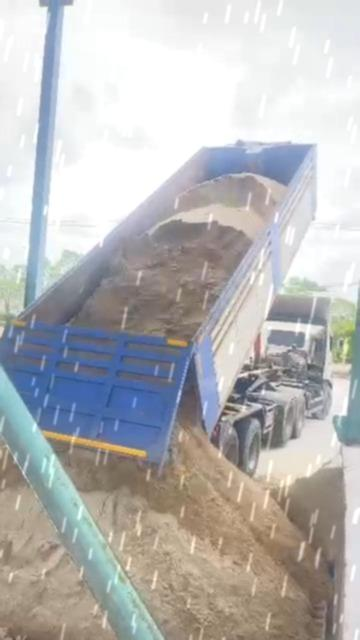sand: (59, 372, 330, 639), (72, 174, 284, 338), (0, 451, 112, 639), (255, 460, 344, 560)
